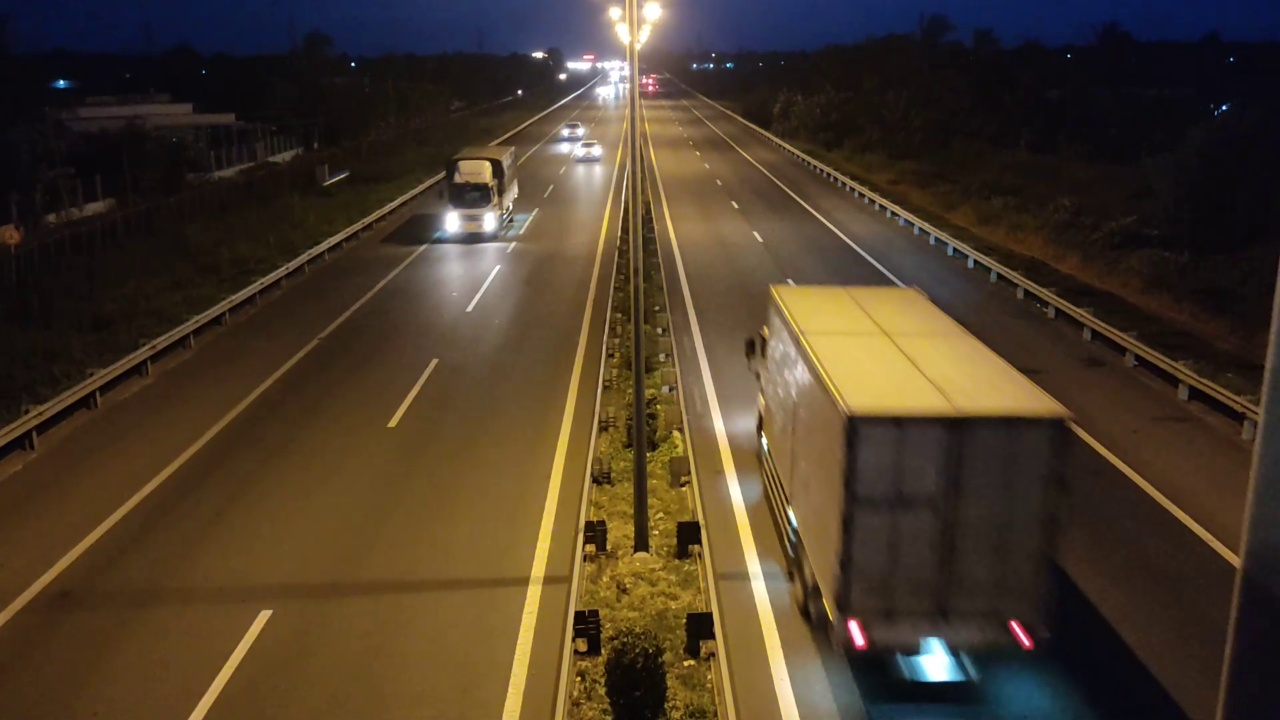car: (571, 140, 603, 162)
truck: (735, 268, 1066, 682), (436, 137, 521, 238)
